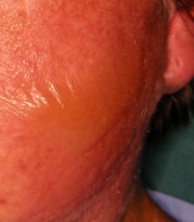SJS-TEN: (0, 0, 189, 222)
